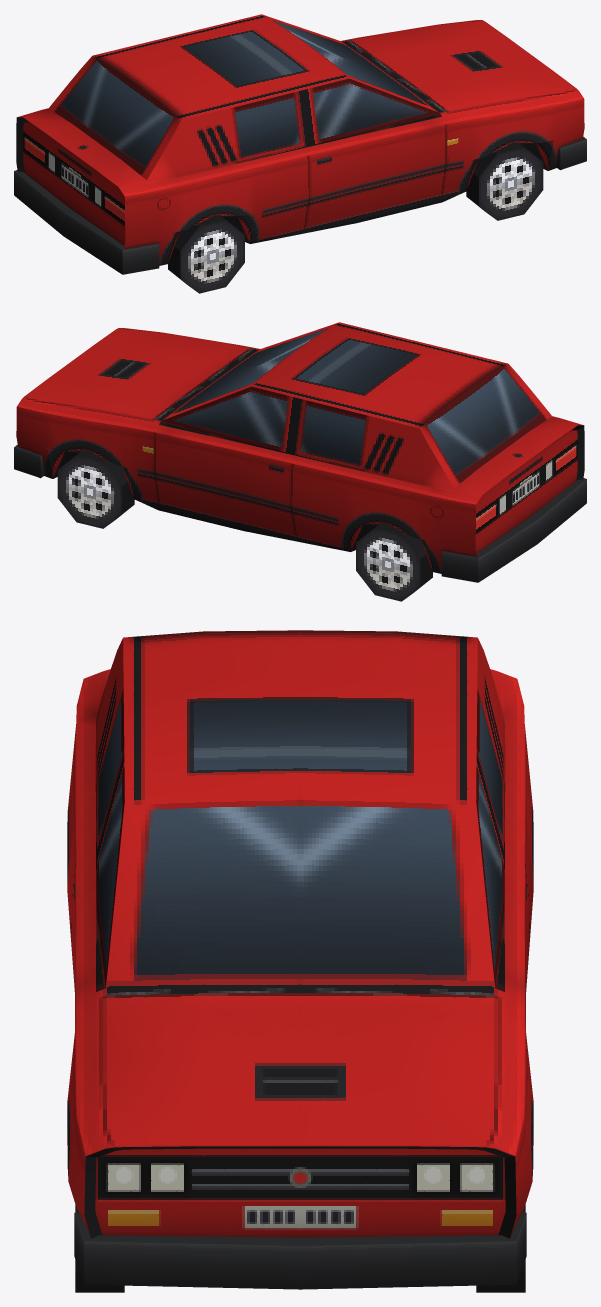
Rendered from pica-far.glb.
3 views of the same model, one above another, from view 1: azimuth 30°, elevation 25°; view 2: azimuth 150°, elevation 25°; view 3: azimuth 270°, elevation 25° (orthographic). The views are drawn at different scales.
Parts seen in each view (by area): view 1: body, wheel front right, wheel rear right; view 2: body, wheel front left, wheel rear left; view 3: body.
Boxes of the visible parts, x1=… form: body: x1=14, y1=14, x2=586, y2=274; wheel front right: x1=466, y1=142, x2=543, y2=220; wheel rear right: x1=168, y1=215, x2=244, y2=293; body: x1=14, y1=322, x2=586, y2=582; wheel front left: x1=57, y1=450, x2=134, y2=528; wheel rear left: x1=356, y1=523, x2=432, y2=601; body: x1=67, y1=630, x2=533, y2=1289.
Size of the model in its own units: 3.57 by 1.23 by 1.52.
1 material, 1 textured.
